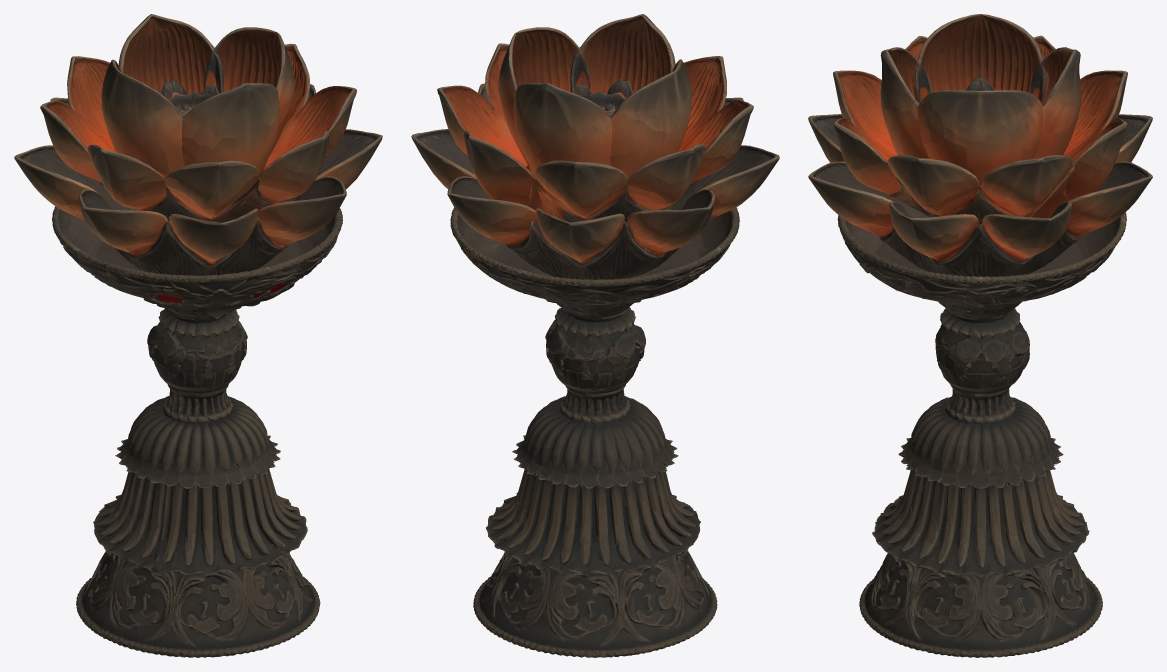
Rendered from Meshy_AI_lotus3_lamp_optimized_1006175403_texture.glb.
3 renders of one model, left to right at view 1: azimuth 30°, elevation 25°; view 2: azimuth 150°, elevation 25°; view 3: azimuth 270°, elevation 25°, orthographic.
Parts seen in each view (by area): view 1: output_unwrapped; view 2: output_unwrapped; view 3: output_unwrapped.
Boxes of the visible parts, left/top/right/bottom form: output_unwrapped: left=14, top=14, right=382, bottom=657; output_unwrapped: left=411, top=14, right=779, bottom=657; output_unwrapped: left=808, top=14, right=1152, bottom=657.
Size of the model in its own units: 1.06 by 1.9 by 1.06.
Materials: 1 (1 with a texture image).
